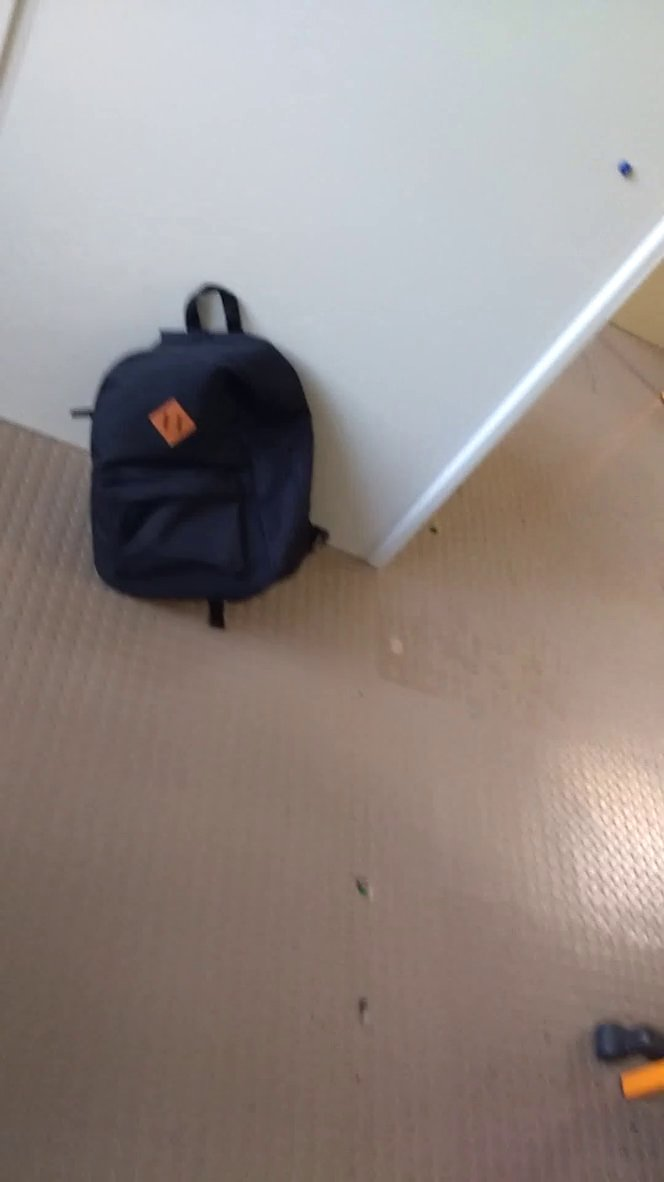bag: (65, 273, 344, 636)
